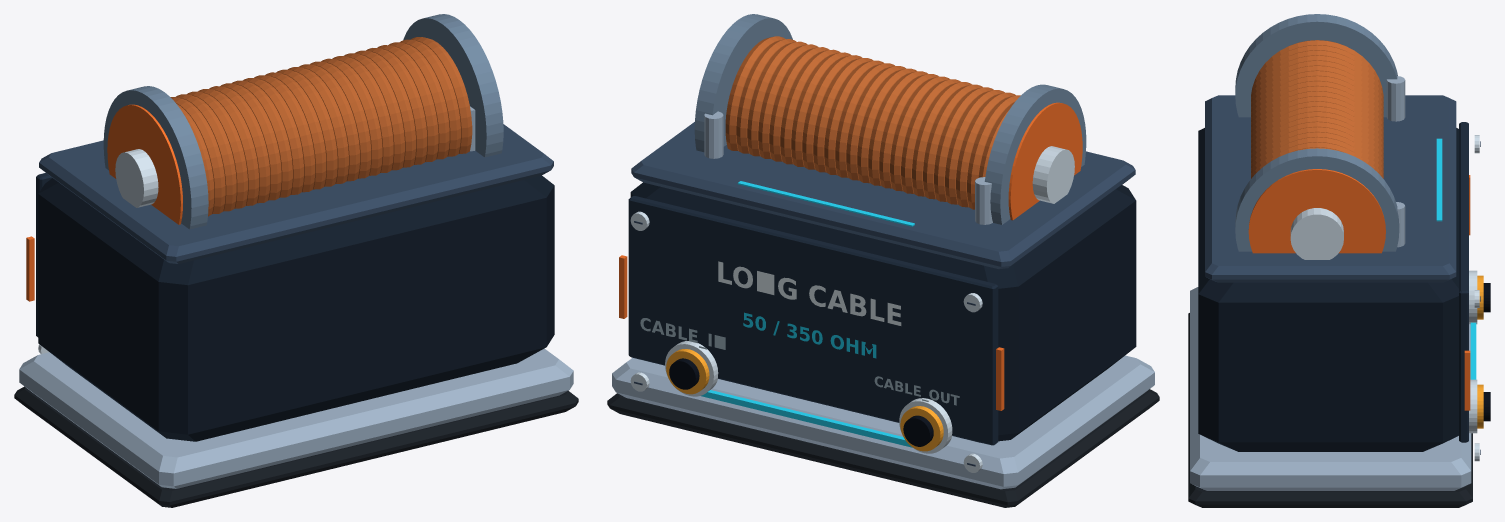
Rendered from 03_50_350Ohm_Cable.fbx.
3 views of the same model, side by side, from view 1: azimuth 30°, elevation 25°; view 2: azimuth 150°, elevation 25°; view 3: azimuth 270°, elevation 25° (orthographic). The views are drawn at different scales.
Parts seen in each view (by area): view 1: 03_50_350Ohm_Cable__CABLE_Chassis, 03_50_350Ohm_Cable__CABLE_Aluminum_Base, 03_50_350Ohm_Cable__CABLE_Top_Lid, 03_50_350Ohm_Cable__CABLE_Footpad_Rubber, 03_50_350Ohm_Cable__CABLE_Spool_Flange_+0.95, 03_50_350Ohm_Cable__CABLE_Spool_Flange_-0.95, 03_50_350Ohm_Cable__CABLE_Spool_FlangeAccent_-0.95, 03_50_350Ohm_Cable__CABLE_Spool_Chrome_Hub_-0.95, 03_50_350Ohm_Cable__CABLE_Copper_Winding_Ring_10, 03_50_350Ohm_Cable__CABLE_Copper_Winding_Ring_03, 03_50_350Ohm_Cable__CABLE_Copper_Winding_Ring_21, 03_50_350Ohm_Cable__CABLE_Copper_Winding_Ring_22 (+21 smaller); view 2: 03_50_350Ohm_Cable__CABLE_Front_Console_Plate, 03_50_350Ohm_Cable__CABLE_Chassis, 03_50_350Ohm_Cable__CABLE_Top_Lid, 03_50_350Ohm_Cable__CABLE_Aluminum_Base, 03_50_350Ohm_Cable__CABLE_Footpad_Rubber, 03_50_350Ohm_Cable__CABLE_Spool_Flange_+0.95, 03_50_350Ohm_Cable__CABLE_Spool_Flange_-0.95, 03_50_350Ohm_Cable__CABLE_Spool_FlangeAccent_-0.95, 03_50_350Ohm_Cable__CABLE_Main_Label, 03_50_350Ohm_Cable__CABLE_Spool_Chrome_Hub_-0.95, 03_50_350Ohm_Cable__CABLE_Neon_Sill, 03_50_350Ohm_Cable__CABLE_Copper_Winding_Ring_18 (+33 smaller); view 3: 03_50_350Ohm_Cable__CABLE_Chassis, 03_50_350Ohm_Cable__CABLE_Top_Lid, 03_50_350Ohm_Cable__CABLE_Aluminum_Base, 03_50_350Ohm_Cable__CABLE_Spool_FlangeAccent_+0.95, 03_50_350Ohm_Cable__CABLE_Spool_Flange_-0.95, 03_50_350Ohm_Cable__CABLE_Footpad_Rubber, 03_50_350Ohm_Cable__CABLE_Spool_Flange_+0.95, 03_50_350Ohm_Cable__CABLE_Front_Console_Plate, 03_50_350Ohm_Cable__CABLE_Spool_Chrome_Hub_+0.95, 03_50_350Ohm_Cable__CABLE_Spool_CornerPost_-0.9_-0.4, 03_50_350Ohm_Cable__CABLE_Copper_Winding_Ring_03, 03_50_350Ohm_Cable__CABLE_Copper_Winding_Ring_12 (+24 smaller).
Part boxes in pixels (box(x1,y1,x2,y2)): 03_50_350Ohm_Cable__CABLE_Chassis: box(38, 175, 554, 441); 03_50_350Ohm_Cable__CABLE_Aluminum_Base: box(19, 348, 573, 488); 03_50_350Ohm_Cable__CABLE_Top_Lid: box(39, 124, 553, 263); 03_50_350Ohm_Cable__CABLE_Footpad_Rubber: box(14, 386, 578, 507); 03_50_350Ohm_Cable__CABLE_Spool_Flange_+0.95: box(403, 14, 503, 157); 03_50_350Ohm_Cable__CABLE_Spool_Flange_-0.95: box(103, 86, 208, 229); 03_50_350Ohm_Cable__CABLE_Spool_FlangeAccent_-0.95: box(107, 104, 182, 224); 03_50_350Ohm_Cable__CABLE_Spool_Chrome_Hub_-0.95: box(115, 149, 158, 207); 03_50_350Ohm_Cable__CABLE_Copper_Winding_Ring_10: box(265, 72, 326, 189); 03_50_350Ohm_Cable__CABLE_Copper_Winding_Ring_03: box(187, 91, 247, 208); 03_50_350Ohm_Cable__CABLE_Copper_Winding_Ring_21: box(388, 42, 449, 159); 03_50_350Ohm_Cable__CABLE_Copper_Winding_Ring_22: box(400, 39, 460, 156); 03_50_350Ohm_Cable__CABLE_Front_Console_Plate: box(628, 196, 998, 445); 03_50_350Ohm_Cable__CABLE_Chassis: box(630, 182, 1136, 442); 03_50_350Ohm_Cable__CABLE_Top_Lid: box(631, 122, 1135, 269); 03_50_350Ohm_Cable__CABLE_Aluminum_Base: box(612, 355, 1154, 489); 03_50_350Ohm_Cable__CABLE_Footpad_Rubber: box(607, 389, 1159, 507); 03_50_350Ohm_Cable__CABLE_Spool_Flange_+0.95: box(694, 14, 792, 152); 03_50_350Ohm_Cable__CABLE_Spool_Flange_-0.95: box(984, 84, 1086, 224); 03_50_350Ohm_Cable__CABLE_Spool_FlangeAccent_-0.95: box(1008, 102, 1082, 220); 03_50_350Ohm_Cable__CABLE_Main_Label: box(718, 261, 901, 325); 03_50_350Ohm_Cable__CABLE_Spool_Chrome_Hub_-0.95: box(1032, 146, 1074, 203); 03_50_350Ohm_Cable__CABLE_Neon_Sill: box(701, 390, 912, 447); 03_50_350Ohm_Cable__CABLE_Copper_Winding_Ring_18: box(780, 49, 840, 164); 03_50_350Ohm_Cable__CABLE_Chassis: box(1198, 128, 1458, 451); 03_50_350Ohm_Cable__CABLE_Top_Lid: box(1205, 95, 1456, 282); 03_50_350Ohm_Cable__CABLE_Aluminum_Base: box(1190, 287, 1471, 490); 03_50_350Ohm_Cable__CABLE_Spool_FlangeAccent_+0.95: box(1248, 169, 1385, 253); 03_50_350Ohm_Cable__CABLE_Spool_Flange_-0.95: box(1235, 14, 1397, 117); 03_50_350Ohm_Cable__CABLE_Footpad_Rubber: box(1188, 313, 1472, 507); 03_50_350Ohm_Cable__CABLE_Spool_Flange_+0.95: box(1235, 148, 1399, 251); 03_50_350Ohm_Cable__CABLE_Front_Console_Plate: box(1459, 122, 1468, 442); 03_50_350Ohm_Cable__CABLE_Spool_Chrome_Hub_+0.95: box(1290, 208, 1343, 259); 03_50_350Ohm_Cable__CABLE_Spool_CornerPost_-0.9_-0.4: box(1386, 76, 1405, 121); 03_50_350Ohm_Cable__CABLE_Copper_Winding_Ring_03: box(1251, 55, 1383, 114); 03_50_350Ohm_Cable__CABLE_Copper_Winding_Ring_12: box(1251, 101, 1383, 160).
Bounding box in the file's own units: 2.7 × 2.18 × 1.81.
